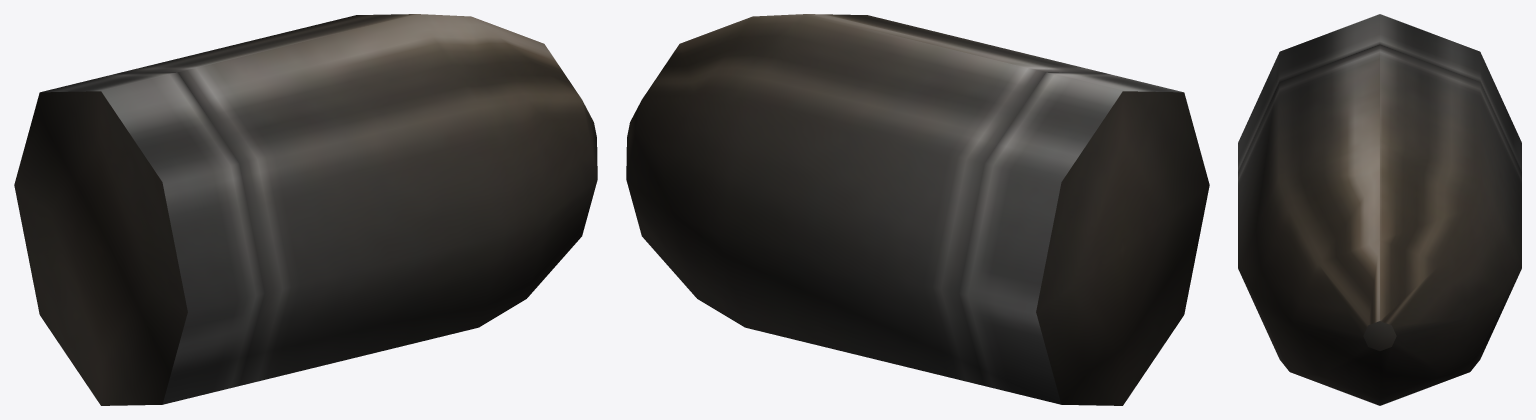
Rendered from CHR_M_OldRanged_Bullet_A_01.FBX.
3 views of the same model, side by side, from view 1: azimuth 30°, elevation 25°; view 2: azimuth 150°, elevation 25°; view 3: azimuth 270°, elevation 25° (orthographic). The views are drawn at different scales.
Visible parts, largest first — view 1: CHR_M_OldRanged_Bullet_A_01; view 2: CHR_M_OldRanged_Bullet_A_01; view 3: CHR_M_OldRanged_Bullet_A_01.
Part boxes in pixels (box(x1,y1,x2,y2)): CHR_M_OldRanged_Bullet_A_01: box(14, 14, 597, 405); CHR_M_OldRanged_Bullet_A_01: box(626, 14, 1209, 405); CHR_M_OldRanged_Bullet_A_01: box(1238, 14, 1521, 405).
Bounding box in the file's own units: 0.2583 × 0.16 × 0.16.
